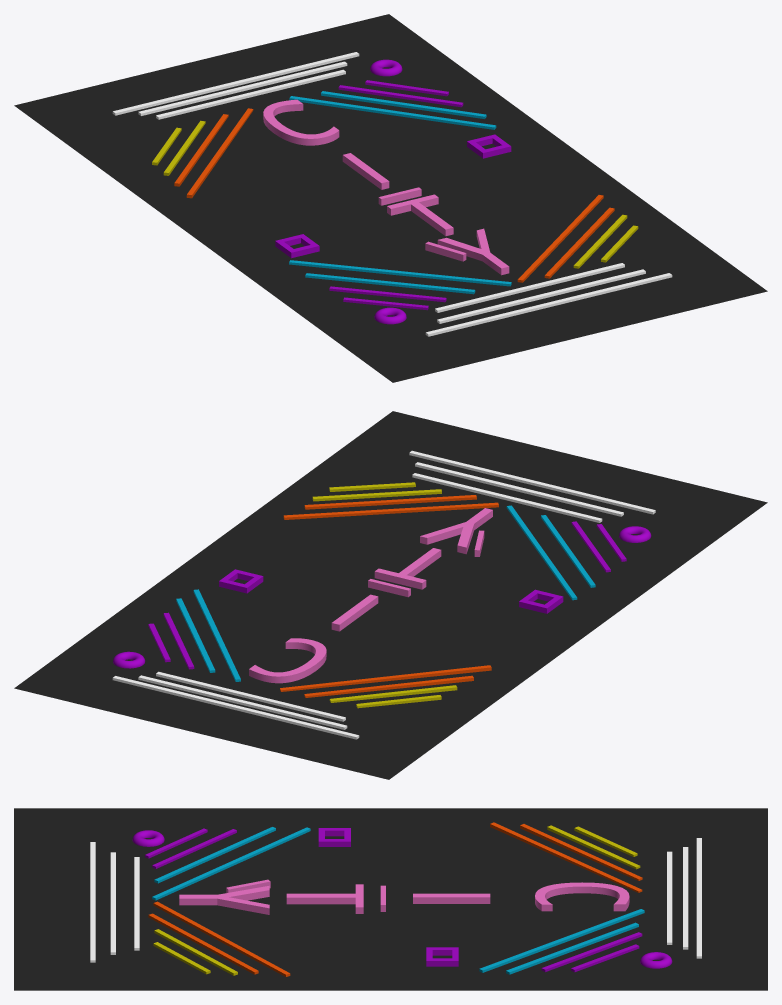
The model's file is Poster2M.fbx.
The picture shows the model from 3 angles, top to bottom: view 1: azimuth 30°, elevation 25°; view 2: azimuth 150°, elevation 25°; view 3: azimuth 270°, elevation 25°; orthographic projection.
Visible parts, largest first — view 1: poster_2_backing, CITY_text, pCube83 (×2), pCube76, pCube73, Vierkantje, pCube74, pCube77, pCube79, pCube75, pCube78, pCube84 (+3 smaller); view 2: poster_2_backing, CITY_text, pCube83 (×2), pCube76, pCube73, Vierkantje, pCube74, pCube77, pCube87, pCube78, pCube75, pCube84 (+4 smaller); view 3: poster_2_backing, CITY_text, pCube83 (×2), pCube84 (×2), Vierkantje, pCube85 (×2), pCube87, pCube79, pCube86 (×2), pCube88, pCube80, pCube73 (+11 smaller).
Part boxes in pixels (bbox=[...]): poster_2_backing: bbox=[14, 14, 767, 382]; CITY_text: bbox=[263, 99, 509, 275]; pCube83 (×2): bbox=[289, 96, 603, 282]; pCube76: bbox=[425, 273, 672, 336]; pCube73: bbox=[112, 52, 359, 115]; Vierkantje: bbox=[275, 134, 511, 258]; pCube74: bbox=[138, 61, 347, 115]; pCube77: bbox=[437, 269, 645, 323]; pCube79: bbox=[289, 260, 511, 286]; pCube75: bbox=[156, 69, 345, 119]; pCube78: bbox=[435, 263, 624, 312]; pCube84: bbox=[321, 91, 486, 118]; poster_2_backing: bbox=[14, 411, 767, 779]; CITY_text: bbox=[249, 508, 492, 683]; pCube83 (×2): bbox=[193, 502, 498, 681]; pCube76: bbox=[409, 450, 655, 514]; pCube73: bbox=[112, 676, 359, 739]; Vierkantje: bbox=[219, 569, 563, 613]; pCube74: bbox=[138, 675, 347, 729]; pCube77: bbox=[415, 462, 623, 516]; pCube87: bbox=[280, 665, 491, 691]; pCube78: bbox=[412, 473, 602, 522]; pCube75: bbox=[156, 671, 345, 721]; pCube84: bbox=[304, 495, 476, 509]; poster_2_backing: bbox=[14, 808, 767, 990]; CITY_text: bbox=[179, 879, 629, 914]; pCube83 (×2): bbox=[153, 901, 644, 976]; pCube84 (×2): bbox=[148, 913, 638, 974]; Vierkantje: bbox=[318, 828, 458, 966]; pCube85 (×2): bbox=[154, 929, 642, 975]; pCube87: bbox=[490, 822, 642, 892]; pCube79: bbox=[152, 827, 310, 900]; pCube86 (×2): bbox=[153, 942, 639, 974]; pCube88: bbox=[520, 824, 642, 880]; pCube80: bbox=[154, 827, 275, 883]; pCube73: bbox=[696, 838, 701, 958].
Bounding box in the file's own units: 400 × 12.5 × 700.
Materials: 1 (1 with a texture image).
